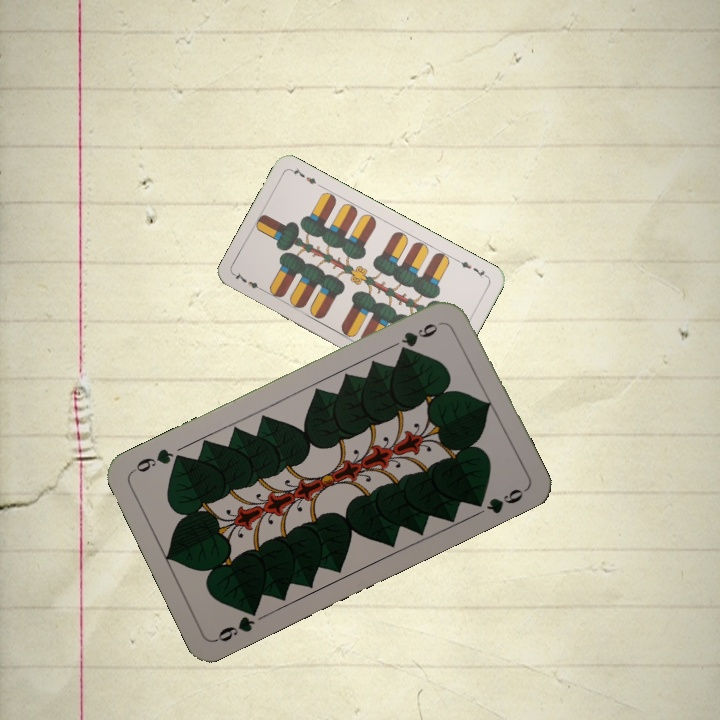E7: (231, 268, 268, 295), (453, 255, 491, 281)
G9: (211, 602, 262, 645), (395, 319, 441, 356)
